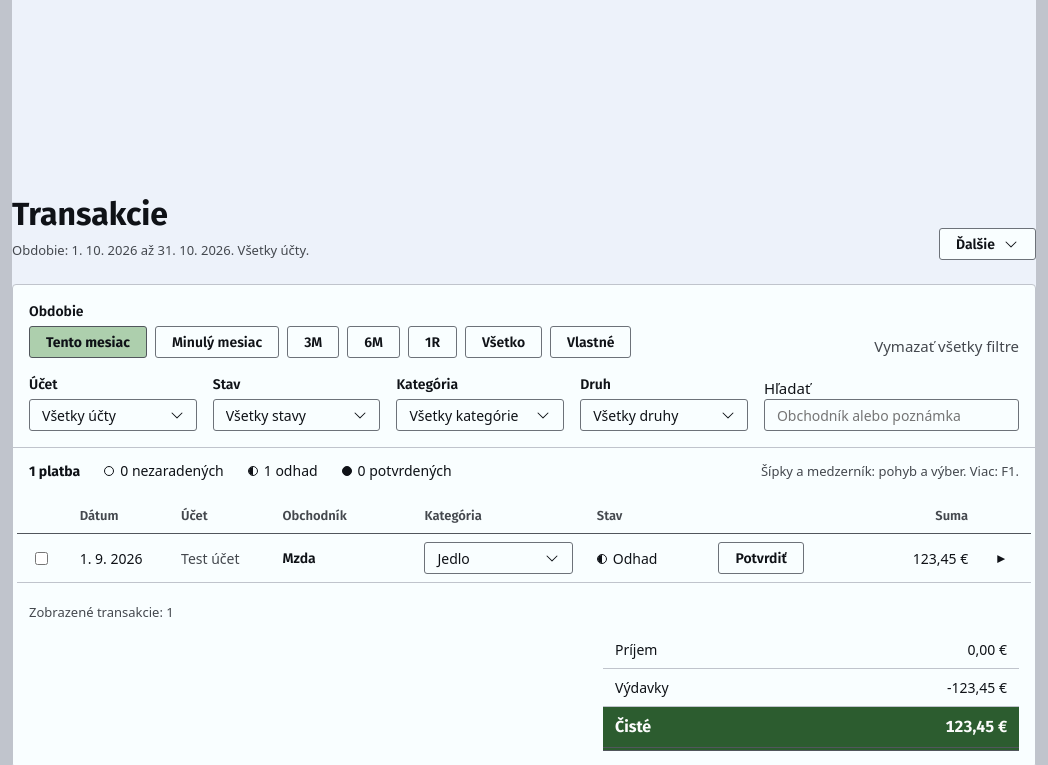
Test: transaction filters, export and sums › shows confirm failure and leaves the suggested transaction actionable
The width and height of the screenshot is (1048, 765).
(page scrolled)
Click the button "Potvrdiť" at (761, 558), box 718,542 -> 804,574
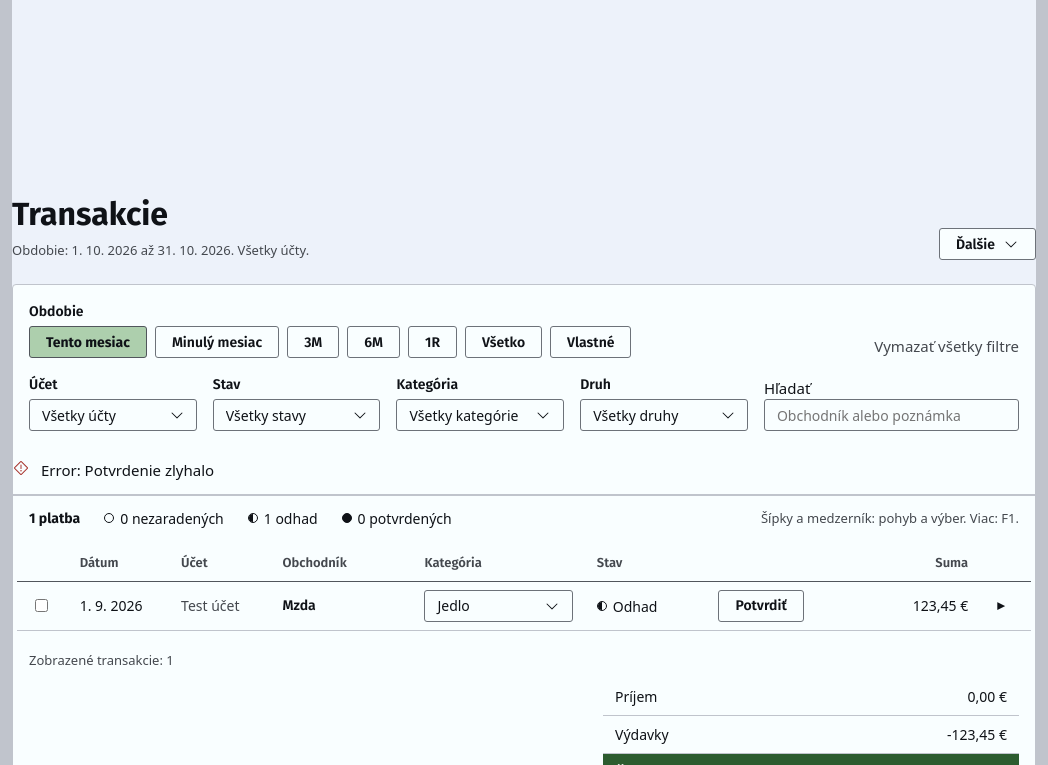
Check: the button "Potvrdiť" is enabled, box 718,590 -> 804,622
Check: the message "Error: Potvrdenie zlyhalo" is shown, box 13,447 -> 1035,495
